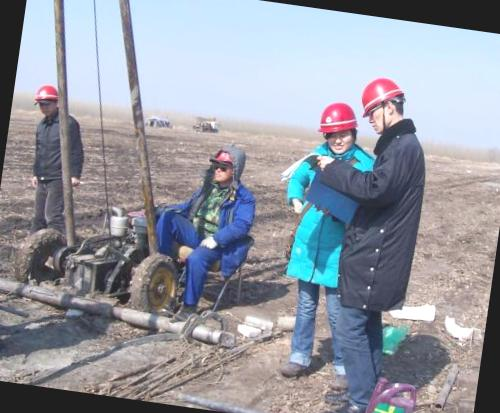person: (314, 71, 445, 413), (254, 95, 388, 384), (136, 134, 277, 328), (10, 79, 94, 266)
